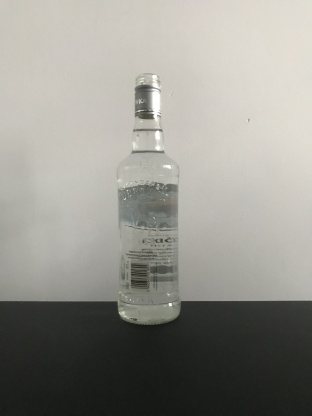nakretka: (132, 71, 163, 119)
